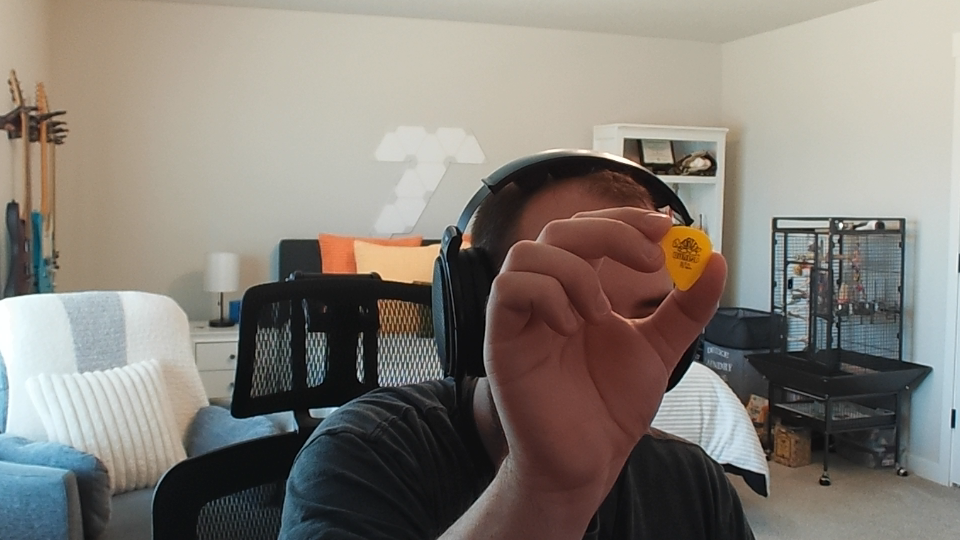GuitarPick: (660, 225, 713, 292)
